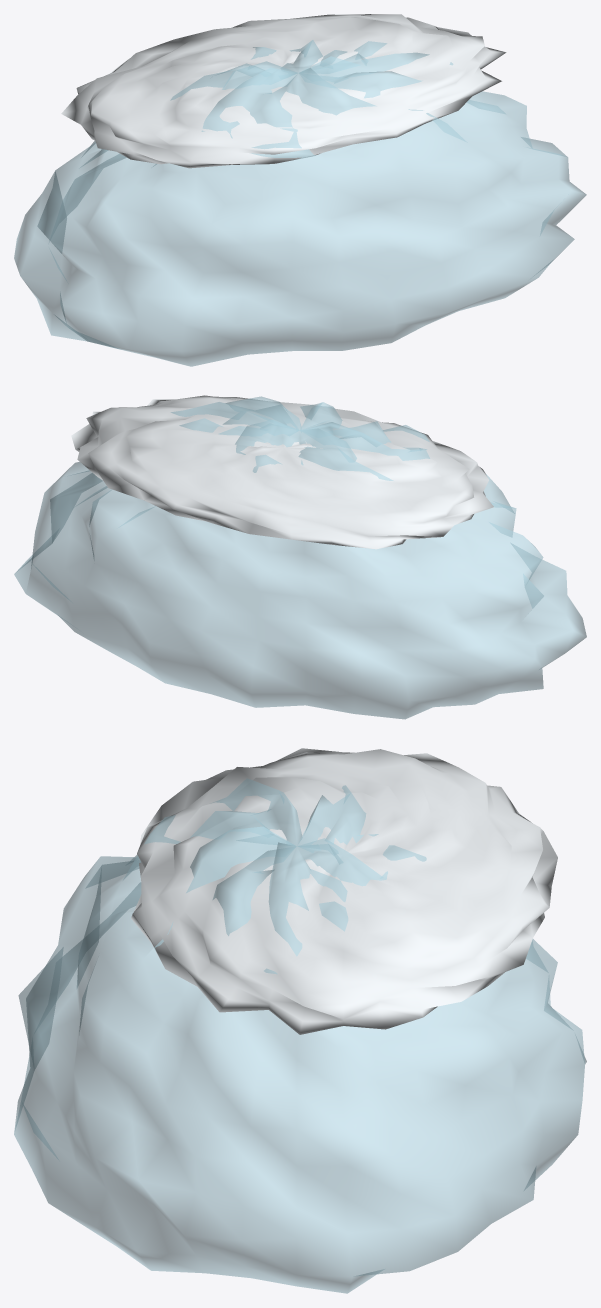
File: alpine-and-arctic-biomes-glacier-snout-6581a363__21043.glb
The picture shows the model from 3 angles, top to bottom: view 1: azimuth 30°, elevation 25°; view 2: azimuth 150°, elevation 25°; view 3: azimuth 270°, elevation 25°; orthographic projection. The views are drawn at different scales.
Parts seen in each view (by area): view 1: glacier-snout; view 2: glacier-snout; view 3: glacier-snout.
Boxes of the visible parts, x1=… form: glacier-snout: x1=14, y1=14, x2=586, y2=366; glacier-snout: x1=14, y1=395, x2=586, y2=719; glacier-snout: x1=14, y1=748, x2=586, y2=1293.
Bounding box in the file's own units: 9.02 × 3.64 × 6.14.
